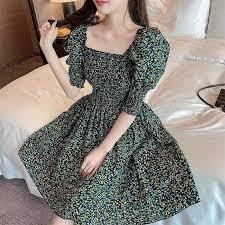dress: (19, 19, 204, 221)
